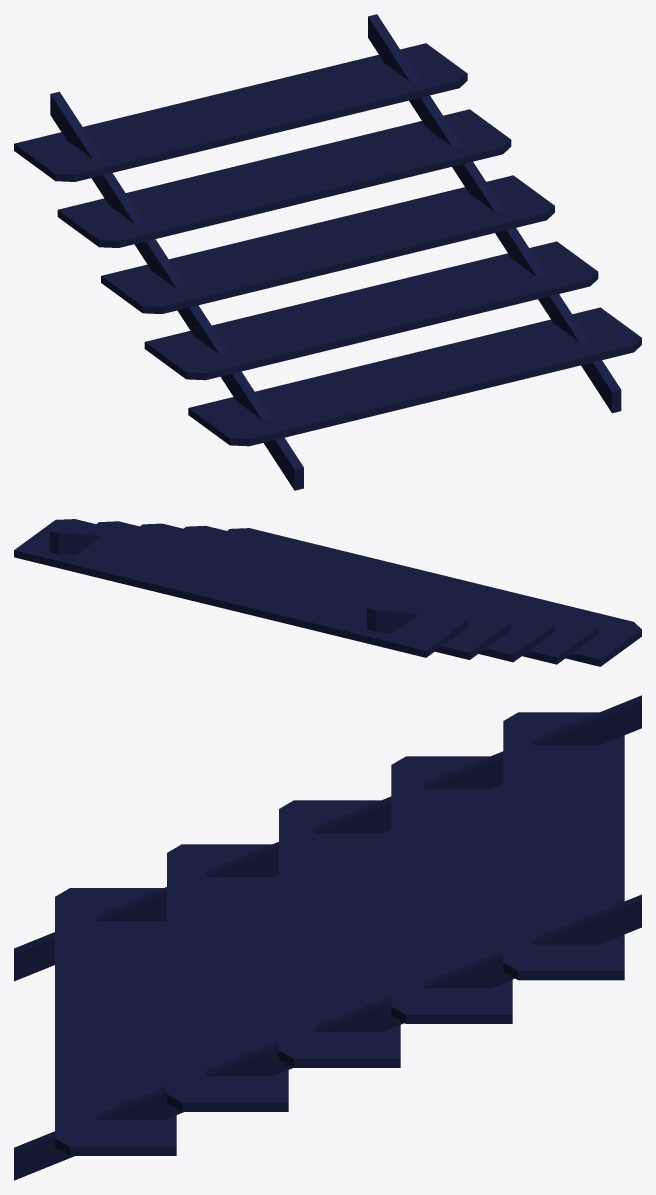
The model's file is SM_stairs_park.fbx.
3 views of the same model, one above another, from view 1: azimuth 30°, elevation 25°; view 2: azimuth 150°, elevation 25°; view 3: azimuth 270°, elevation 25° (orthographic). The views are drawn at different scales.
Visible parts, largest first — view 1: Box074; view 2: Box074; view 3: Box074.
Boxes of the visible parts, x1=… form: Box074: x1=14, y1=14, x2=641, y2=490; Box074: x1=14, y1=519, x2=641, y2=666; Box074: x1=14, y1=695, x2=641, y2=1180.
Bounding box in the file's own units: 103 × 51.97 × 105.
